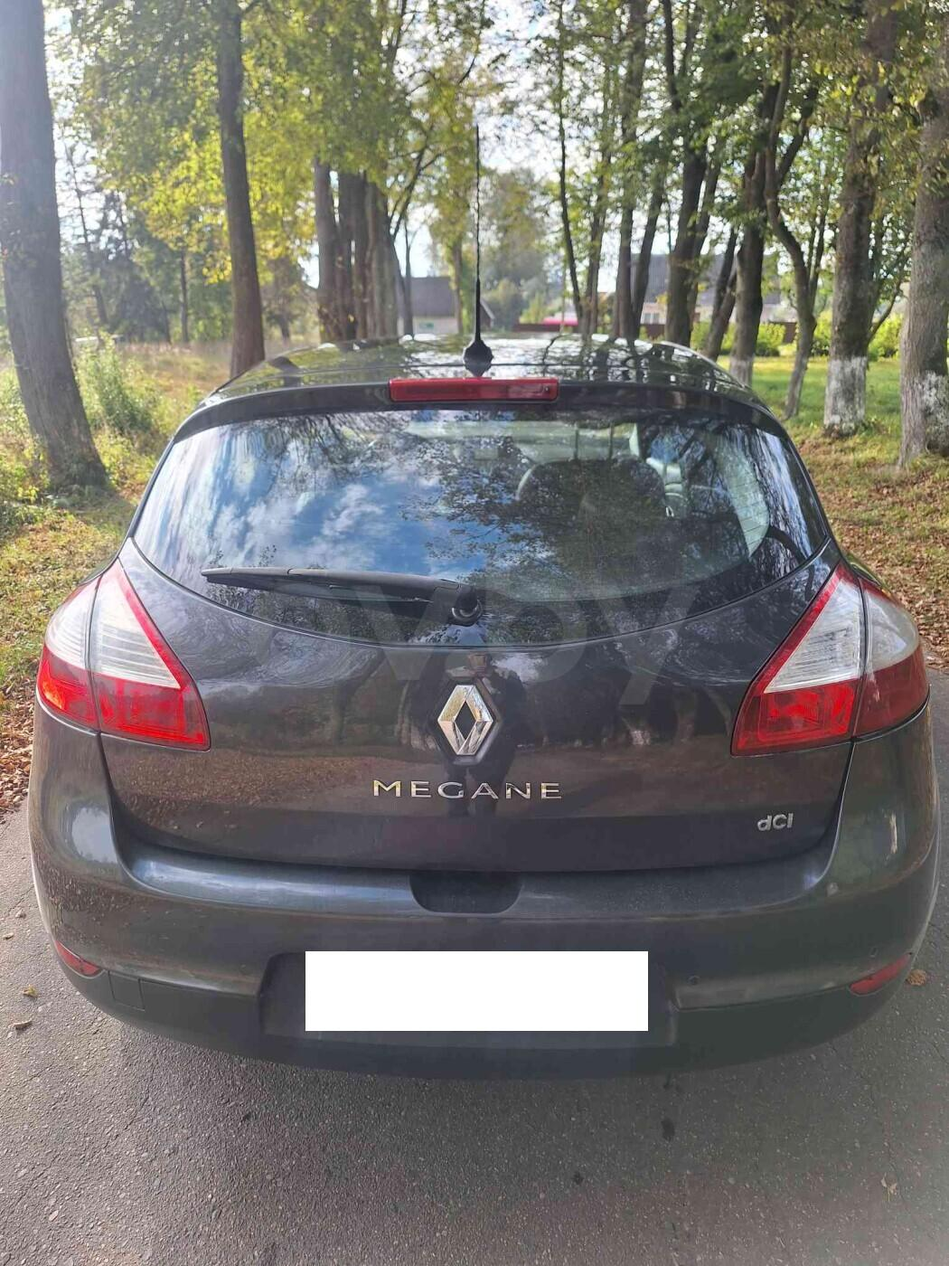Megane_2012-2014: (22, 327, 945, 1069)
